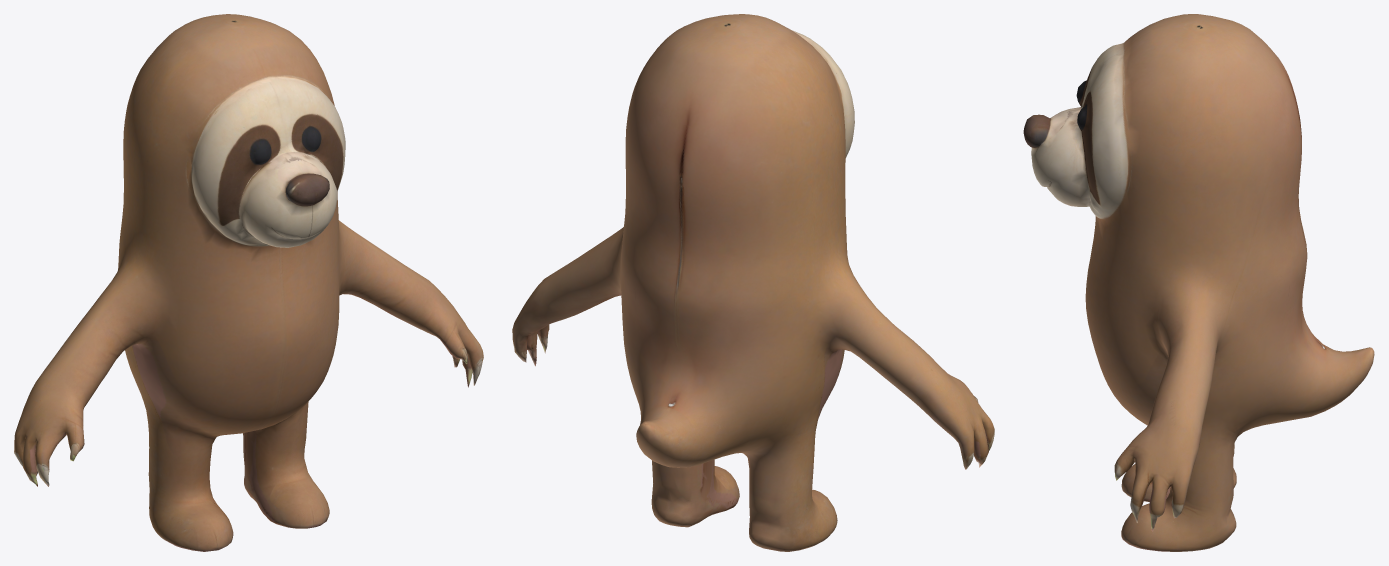
Rendered from SLOTH.fbx.
3 views of the same model, side by side, from view 1: azimuth 30°, elevation 25°; view 2: azimuth 150°, elevation 25°; view 3: azimuth 270°, elevation 25° (orthographic). The views are drawn at different scales.
Visible parts, largest first — view 1: Mesh_0.528; view 2: Mesh_0.528; view 3: Mesh_0.528.
Boxes of the visible parts, box(x1,y1,x2,y2) form: Mesh_0.528: box(14, 14, 483, 551); Mesh_0.528: box(512, 14, 994, 551); Mesh_0.528: box(1023, 14, 1374, 551).
Size of the model in its own units: 192 by 199 by 129.
1 material, 1 textured.
